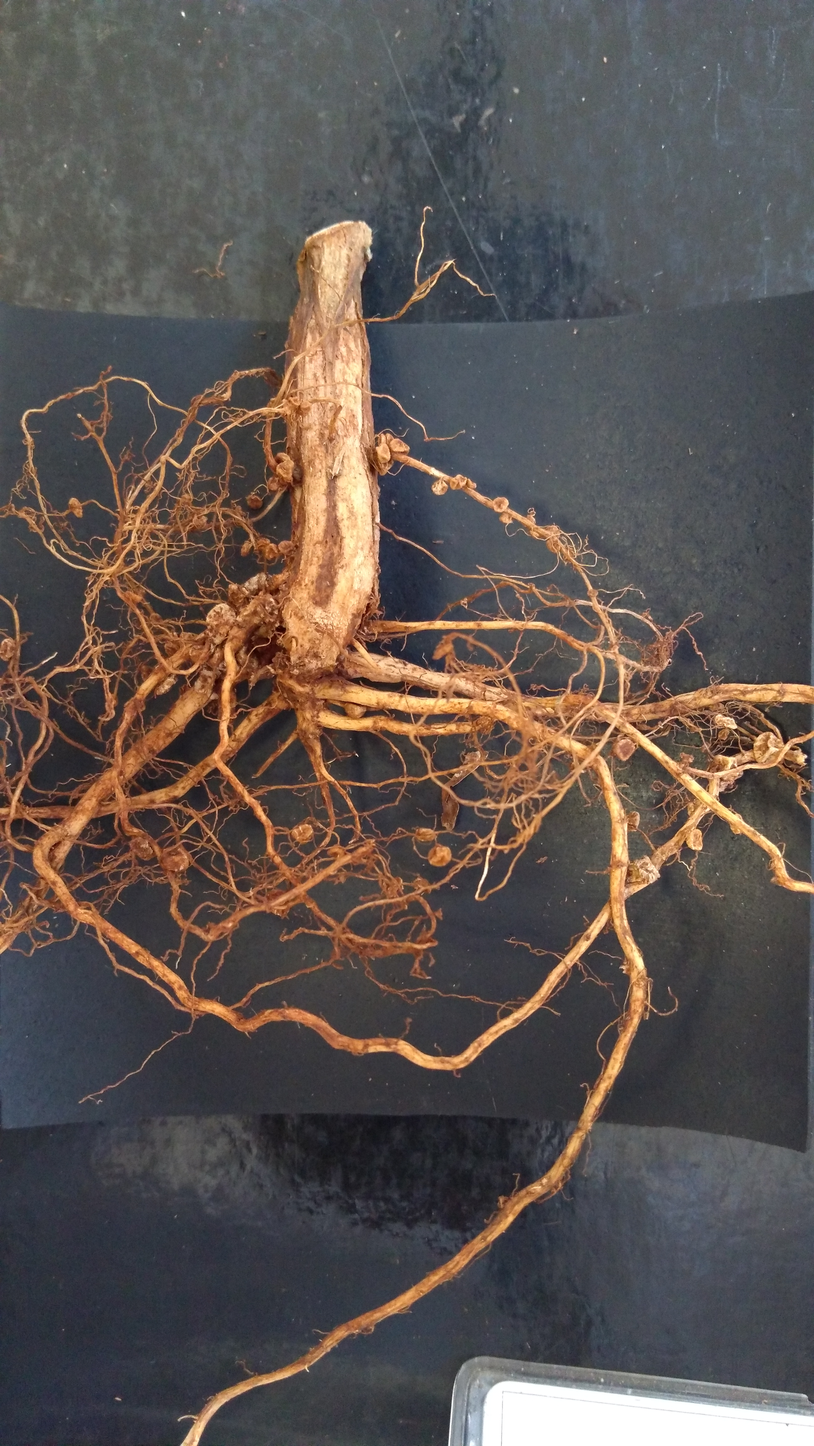nodule: (623, 848, 662, 892), (204, 600, 237, 651), (236, 592, 278, 626), (753, 727, 786, 765), (228, 572, 267, 603), (263, 884, 292, 923), (157, 846, 193, 875), (710, 754, 744, 782), (125, 835, 158, 862), (425, 841, 454, 870), (611, 731, 636, 762), (153, 673, 179, 701), (289, 820, 315, 847), (341, 698, 371, 720), (186, 641, 210, 667), (276, 458, 296, 486), (428, 478, 451, 502), (625, 807, 643, 834), (0, 634, 16, 664), (413, 825, 438, 844), (713, 712, 738, 731), (489, 495, 512, 515), (684, 829, 705, 849), (243, 492, 266, 510), (326, 843, 346, 863), (389, 435, 410, 454), (449, 472, 468, 493), (66, 496, 84, 518), (373, 442, 391, 464), (377, 458, 396, 477), (162, 639, 179, 660), (730, 810, 743, 837), (262, 542, 280, 561), (276, 537, 294, 555), (266, 474, 284, 492), (273, 450, 293, 465), (684, 799, 704, 814), (238, 540, 253, 559), (546, 536, 561, 553), (466, 476, 481, 492), (545, 524, 561, 539), (708, 701, 726, 712), (499, 512, 512, 526), (384, 431, 395, 447), (718, 728, 731, 741), (375, 432, 387, 446), (586, 587, 601, 598), (523, 515, 537, 526), (529, 531, 542, 539)
